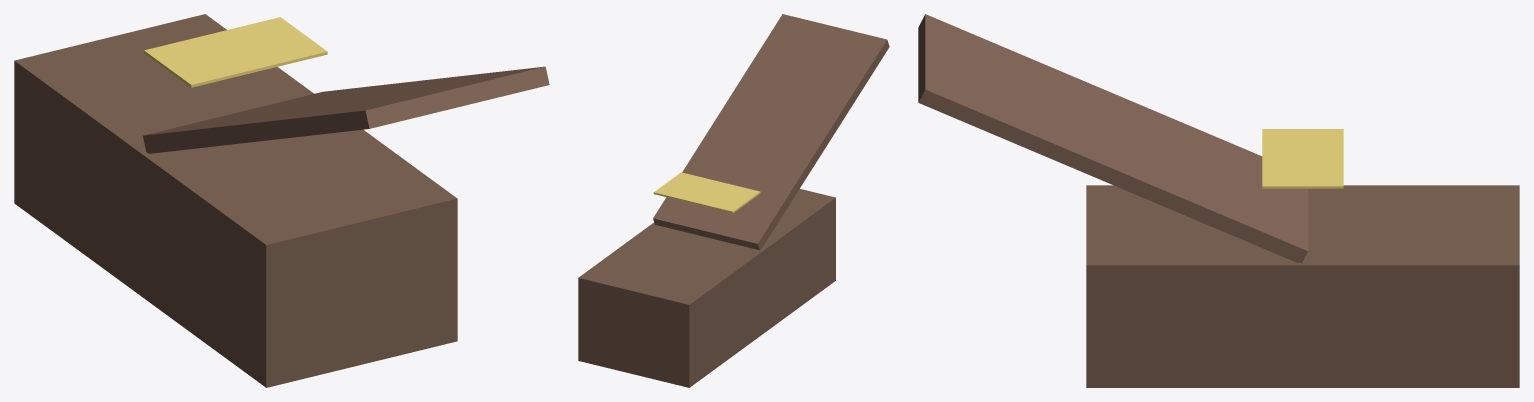
Rendered from coffin_vampire.glb.
3 renders of one model, left to right at view 1: azimuth 30°, elevation 25°; view 2: azimuth 150°, elevation 25°; view 3: azimuth 270°, elevation 25°, orthographic. The views are drawn at different scales.
Parts seen in each view (by area): view 1: Cube, Cube.001, Cube.002; view 2: Cube, Cube.001, Cube.002; view 3: Cube, Cube.001, Cube.002.
Part boxes in pixels (bbox=[...]): Cube: bbox=[14, 14, 457, 387]; Cube.001: bbox=[143, 66, 549, 153]; Cube.002: bbox=[144, 17, 327, 87]; Cube: bbox=[578, 189, 835, 387]; Cube.001: bbox=[653, 14, 889, 250]; Cube.002: bbox=[653, 172, 760, 213]; Cube: bbox=[1086, 185, 1519, 387]; Cube.001: bbox=[918, 14, 1308, 262]; Cube.002: bbox=[1262, 129, 1343, 188].
Size of the model in its own units: 0.35 by 0.6034 by 1.11.
